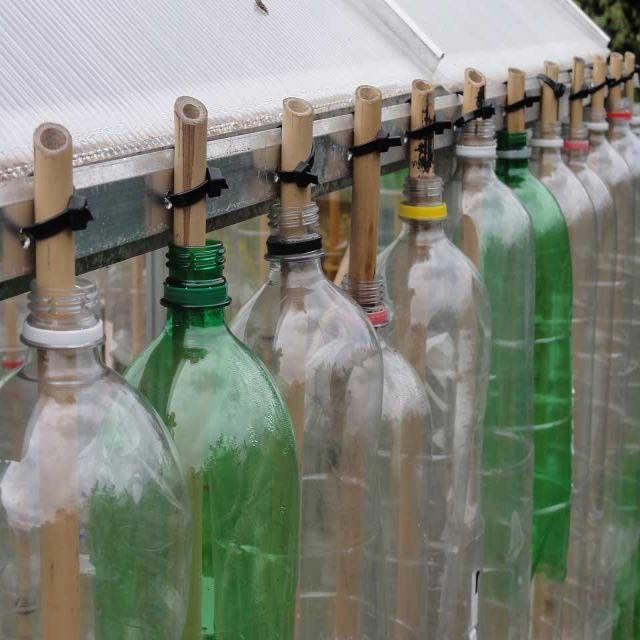plastic_bottle: (92, 241, 307, 640), (226, 192, 389, 640), (3, 281, 189, 640), (368, 170, 479, 640), (501, 112, 595, 640), (446, 120, 536, 640), (330, 273, 434, 640), (548, 123, 618, 640), (495, 130, 574, 584)
